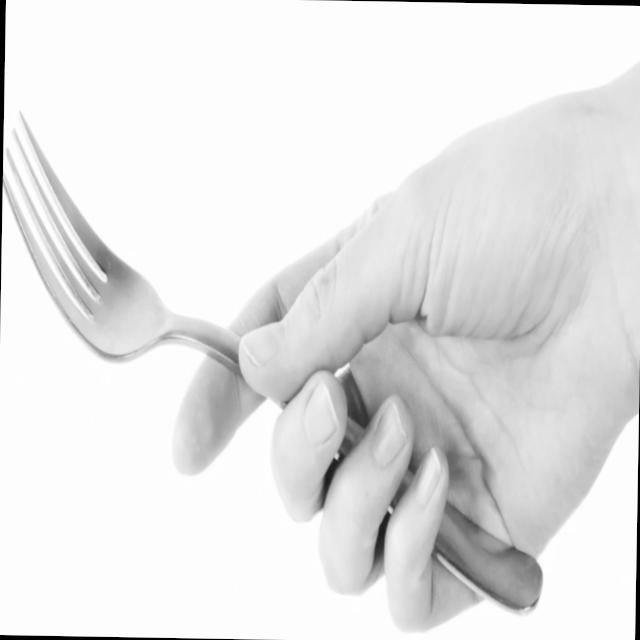fork: (0, 106, 552, 613)
